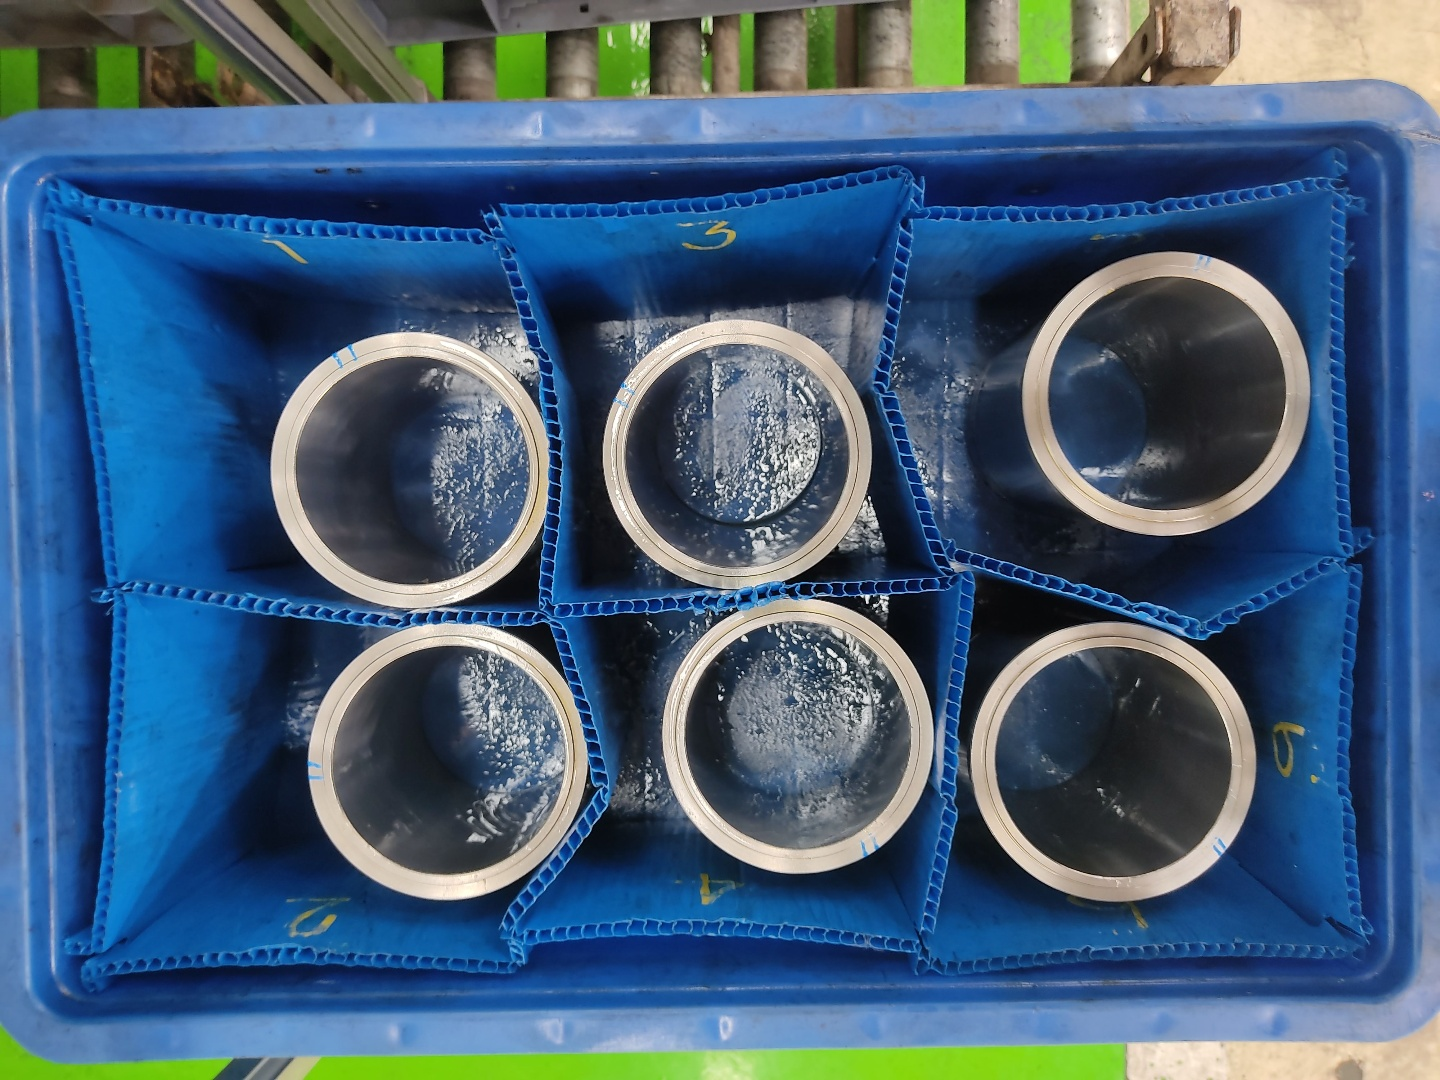cylinder: (1020, 247, 1315, 539), (967, 616, 1260, 908), (265, 328, 553, 615), (303, 618, 588, 906), (659, 594, 939, 879), (599, 317, 874, 592)
